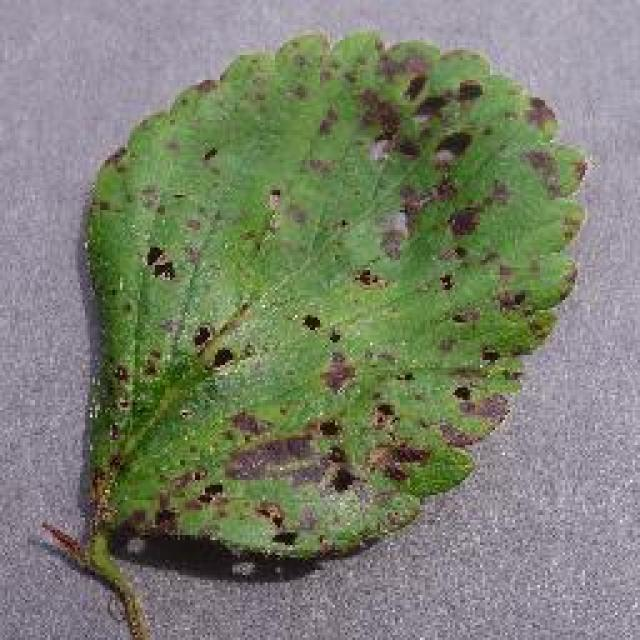Strawberry leaf scorch: (127, 92, 528, 565)
